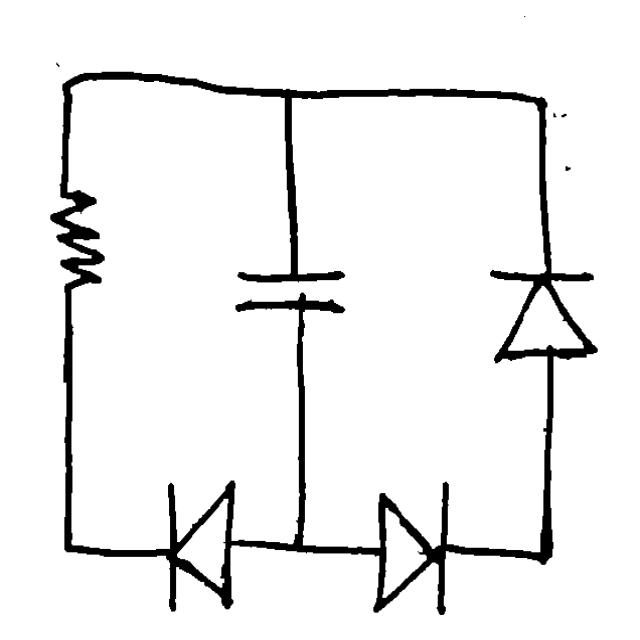capacitor: (226, 256, 360, 328)
diode: (358, 461, 464, 626), (148, 469, 251, 624), (475, 256, 610, 373)
resistor: (47, 176, 113, 306)
